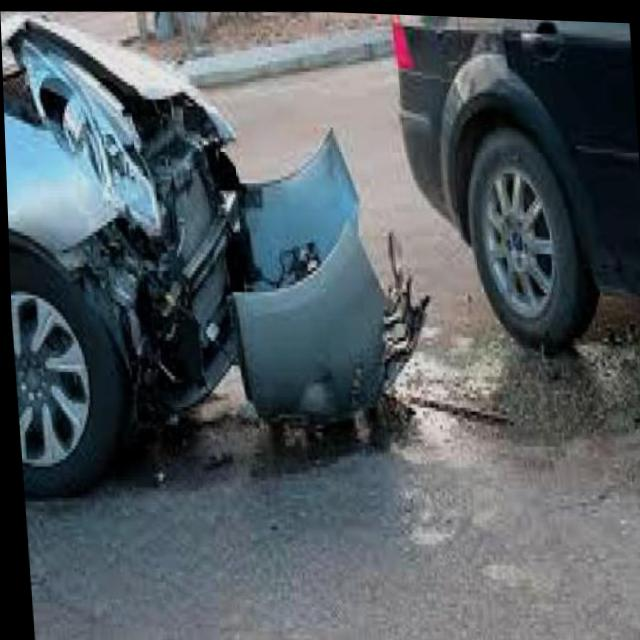Car-Damage: (0, 9, 430, 445)
